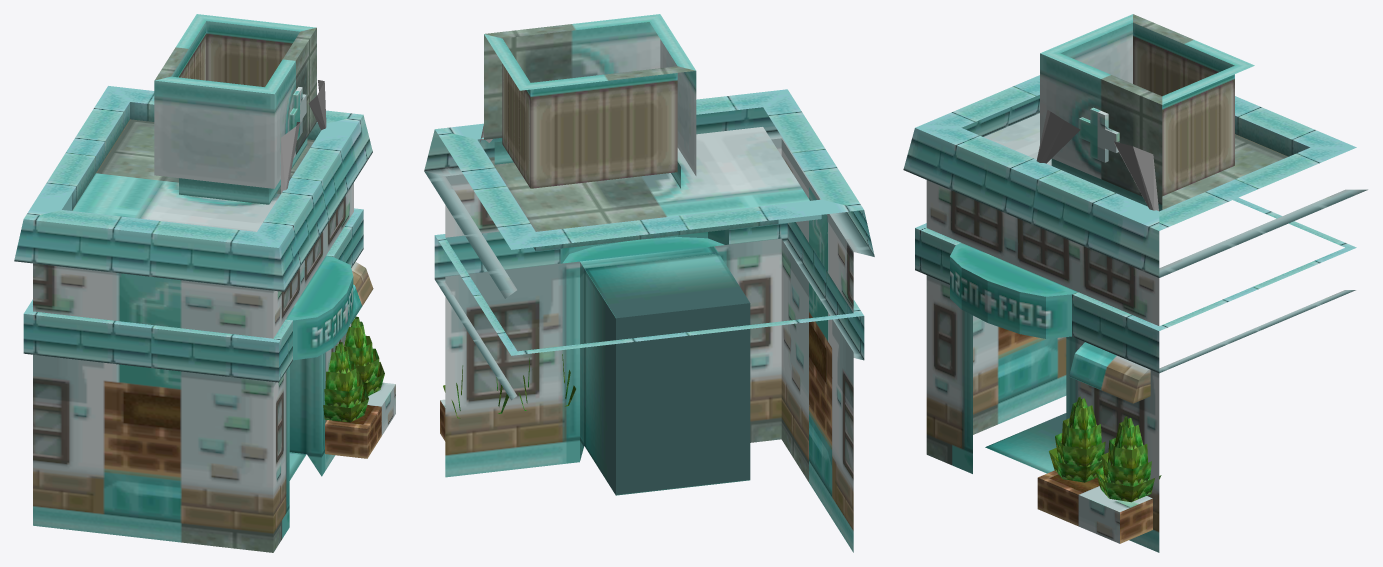
File: dobj_hospital_A01.obj
3 views of the same model, side by side, from view 1: azimuth 30°, elevation 25°; view 2: azimuth 150°, elevation 25°; view 3: azimuth 270°, elevation 25° (orthographic). The views are drawn at different scales.
Parts seen in each view (by area): view 1: vsn_mesh_0_body_mesh_0_body, vsn_mesh_1_dream_kasan1_mesh_1_dream_kasan1; view 2: vsn_mesh_0_body_mesh_0_body; view 3: vsn_mesh_0_body_mesh_0_body, vsn_mesh_1_dream_kasan1_mesh_1_dream_kasan1.
Part boxes in pixels (x1,y1,x2,y2): vsn_mesh_0_body_mesh_0_body: (14,14,395,552); vsn_mesh_1_dream_kasan1_mesh_1_dream_kasan1: (281,80,326,193); vsn_mesh_0_body_mesh_0_body: (424,14,874,552); vsn_mesh_0_body_mesh_0_body: (903,14,1367,552); vsn_mesh_1_dream_kasan1_mesh_1_dream_kasan1: (1036,110,1158,210).
Size of the model in its own units: 1.62 by 1.63 by 1.6.
Materials: 2 (1 with a texture image).
